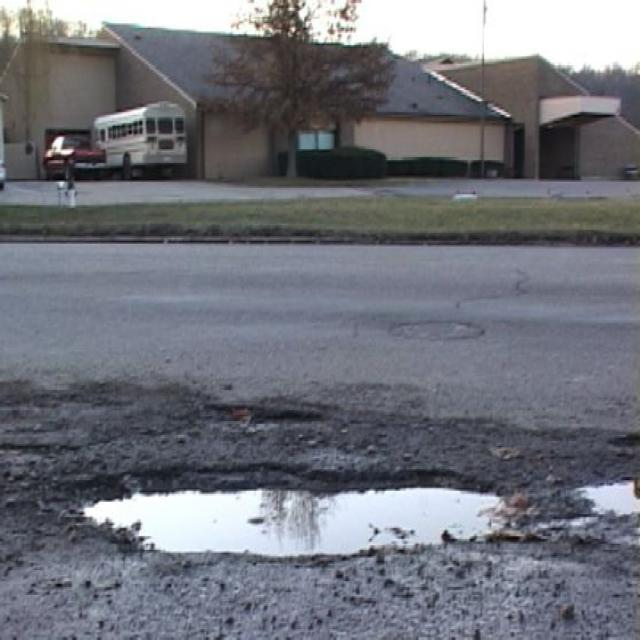pothole: (74, 468, 522, 562)
